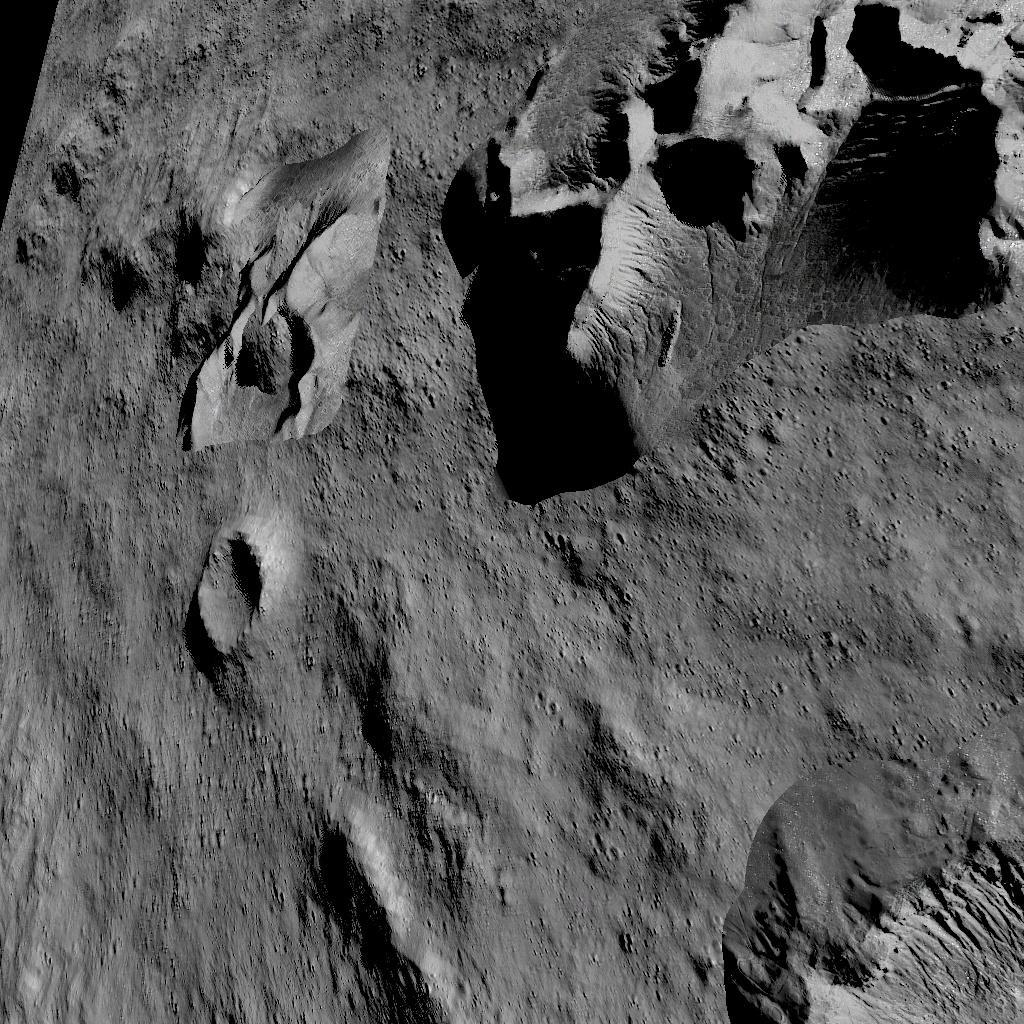Boulders: (433, 0, 1024, 505), (142, 127, 390, 449)
Crater: (731, 826, 1024, 1024), (180, 516, 274, 665)
Plan surface: (435, 516, 1024, 817), (3, 684, 299, 1024), (453, 828, 717, 1024), (0, 462, 163, 673), (113, 0, 419, 110)
